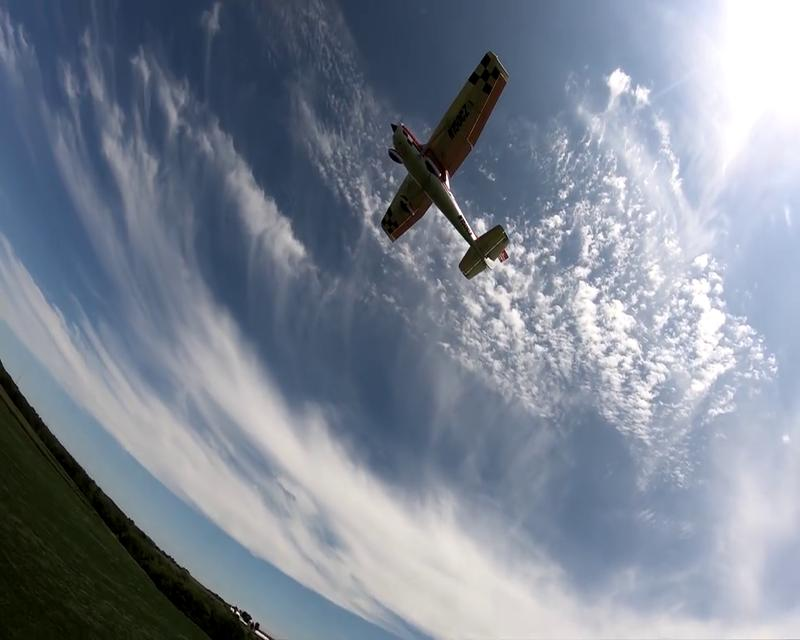UAV: (380, 51, 511, 282)
